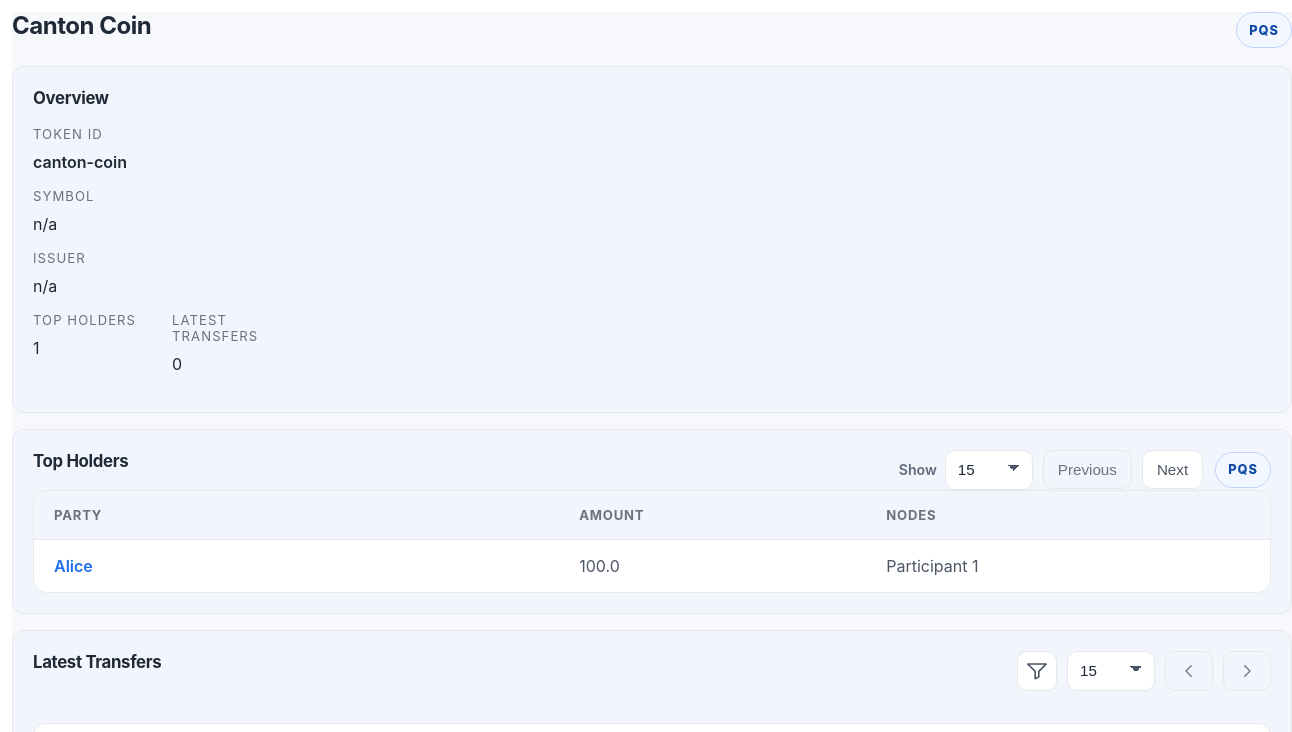
it: TokenDetailView › changes the holders page size independently from transfer pagination
The width and height of the screenshot is (1292, 732).
Expected: the link "Alice" is shown, [54,556,93,576]
Select "50" in the dropdown named "Items per page" at (989, 470), box [945,450,1033,490]
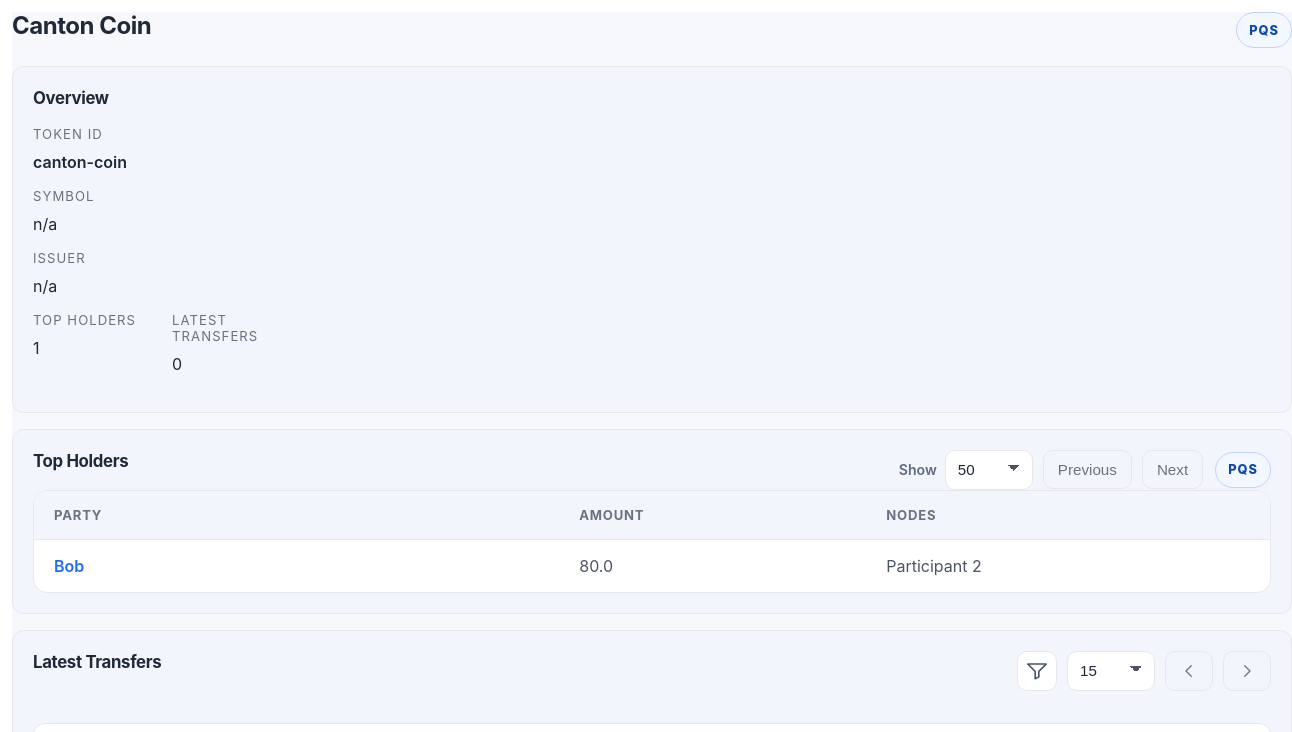
Result: the link "Bob" is shown at [54,556,84,576]
